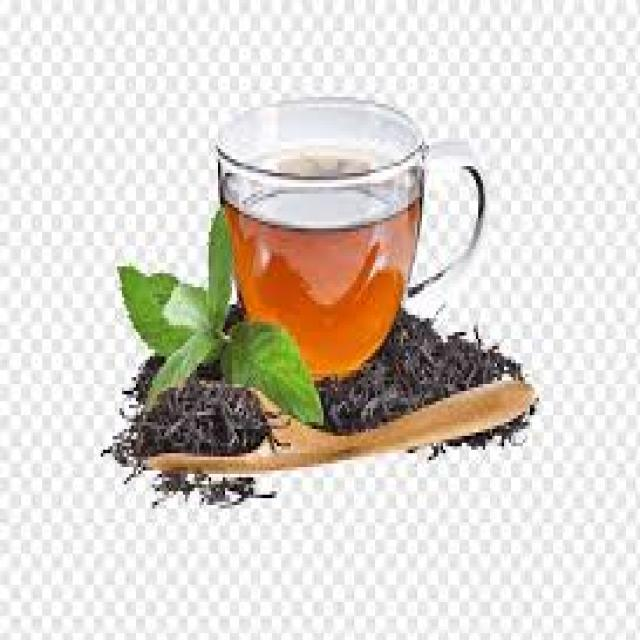taza: (195, 78, 500, 386)
